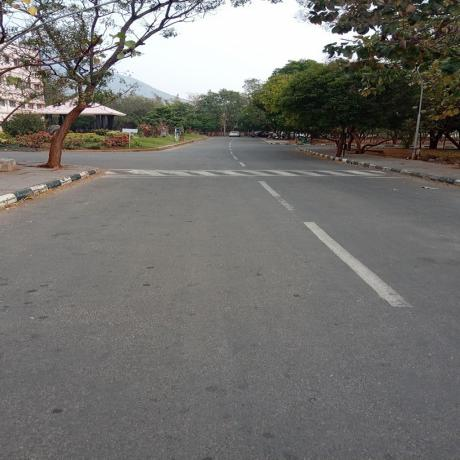Speed Bump: (92, 168, 389, 178)
